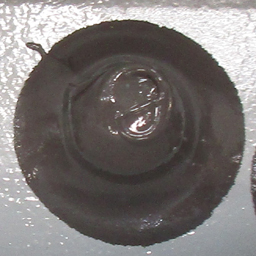perfect: (12, 11, 249, 250)
